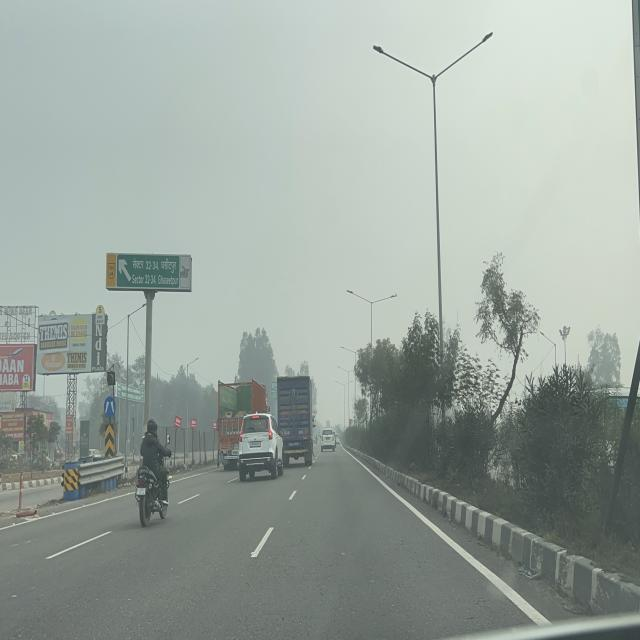GENERAL: (107, 253, 191, 291), (116, 382, 145, 403)
KEEP_EITHER_SIDE: (104, 397, 116, 419)
